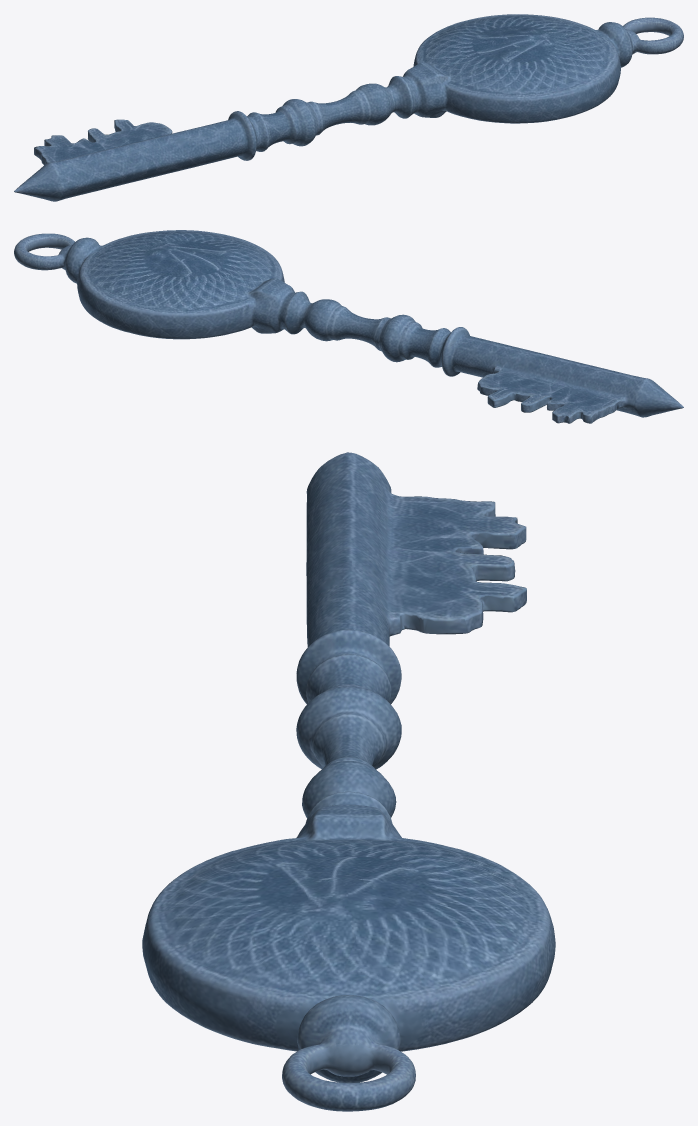
Rendered from crystal-key.glb.
The picture shows the model from 3 angles, top to bottom: view 1: azimuth 30°, elevation 25°; view 2: azimuth 150°, elevation 25°; view 3: azimuth 270°, elevation 25°; orthographic projection. The views are drawn at different scales.
Bounding box in the file's own units: 1.9 × 0.168 × 0.5109.
Materials: 1 (1 with a texture image).
